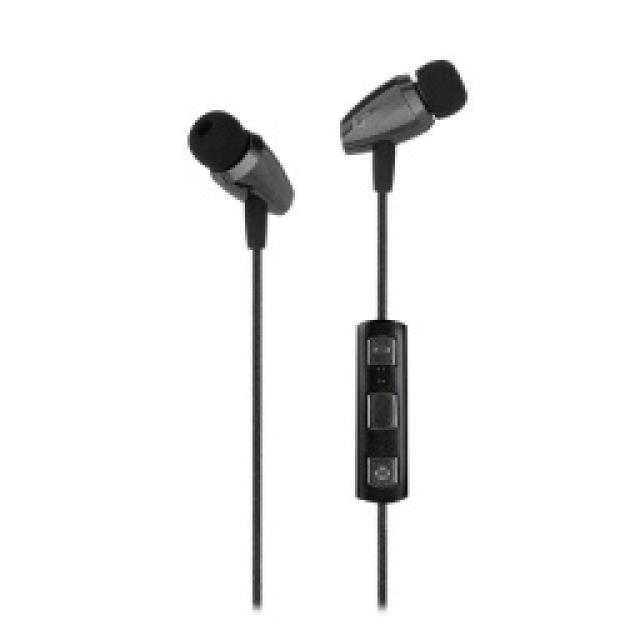headphones: (335, 55, 467, 607)
